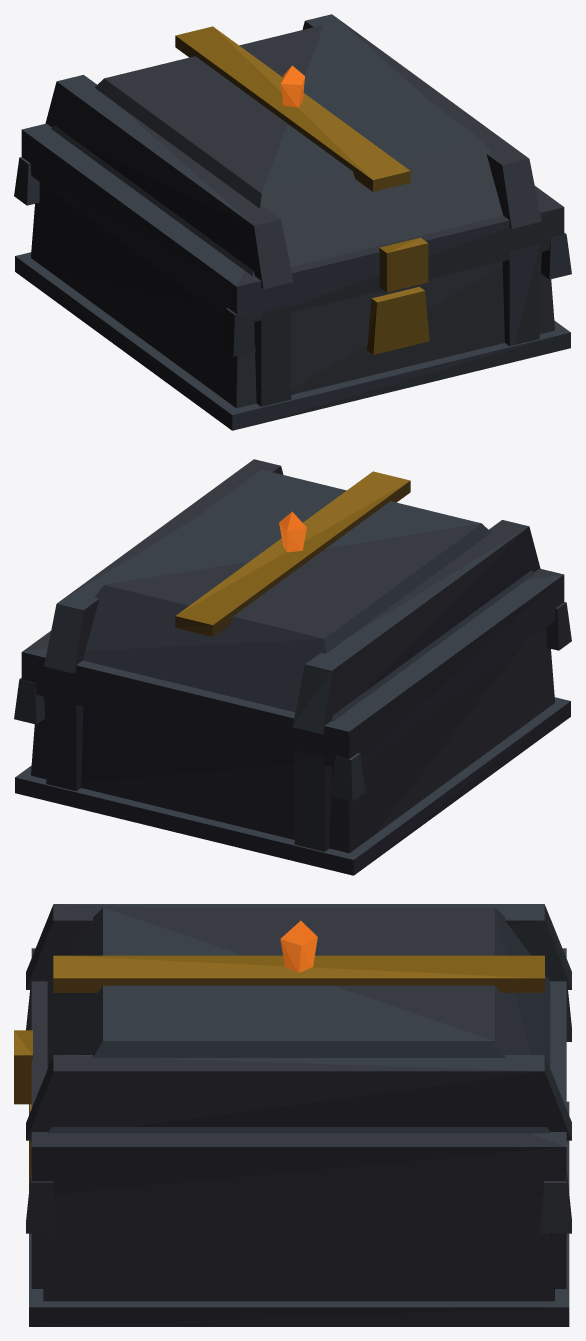
The model's file is chest_gold.gltf.
The picture shows the model from 3 angles, top to bottom: view 1: azimuth 30°, elevation 25°; view 2: azimuth 150°, elevation 25°; view 3: azimuth 270°, elevation 25°; orthographic projection. The views are drawn at different scales.
Parts seen in each view (by area): view 1: chest_lid, chest_gold; view 2: chest_lid, chest_gold; view 3: chest_lid, chest_gold.
Part boxes in pixels (x1,y1,x2,y2): chest_lid: (21,14,564,322); chest_gold: (14,157,571,430); chest_lid: (21,459,564,767); chest_gold: (14,602,571,875); chest_lid: (14,904,571,1195); chest_gold: (26,990,571,1326).
Bounding box in the file's own units: 1.8 × 1.24 × 2.06.
Materials: 2 (2 with a texture image).
